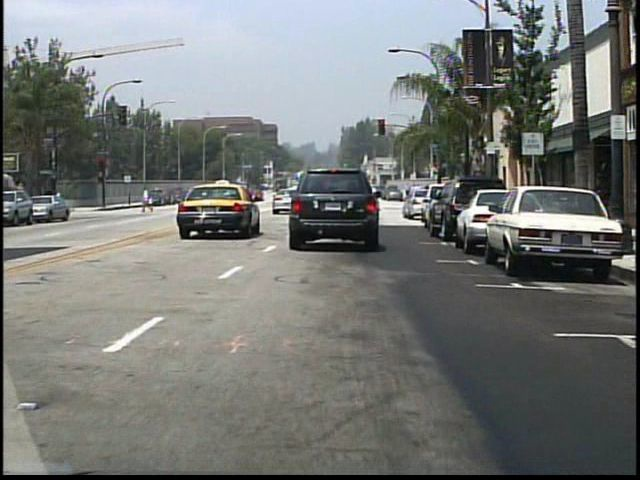person: (370, 184, 387, 215), (140, 187, 157, 214)
